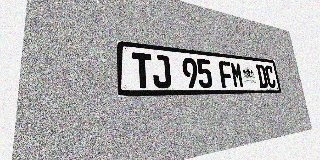5: (196, 58, 213, 88)
9: (181, 57, 199, 88)
C: (264, 65, 276, 88)
D: (255, 64, 268, 88)
F: (218, 61, 234, 88)
J: (152, 54, 171, 88)
M: (230, 62, 244, 88)
T: (132, 52, 153, 88)
